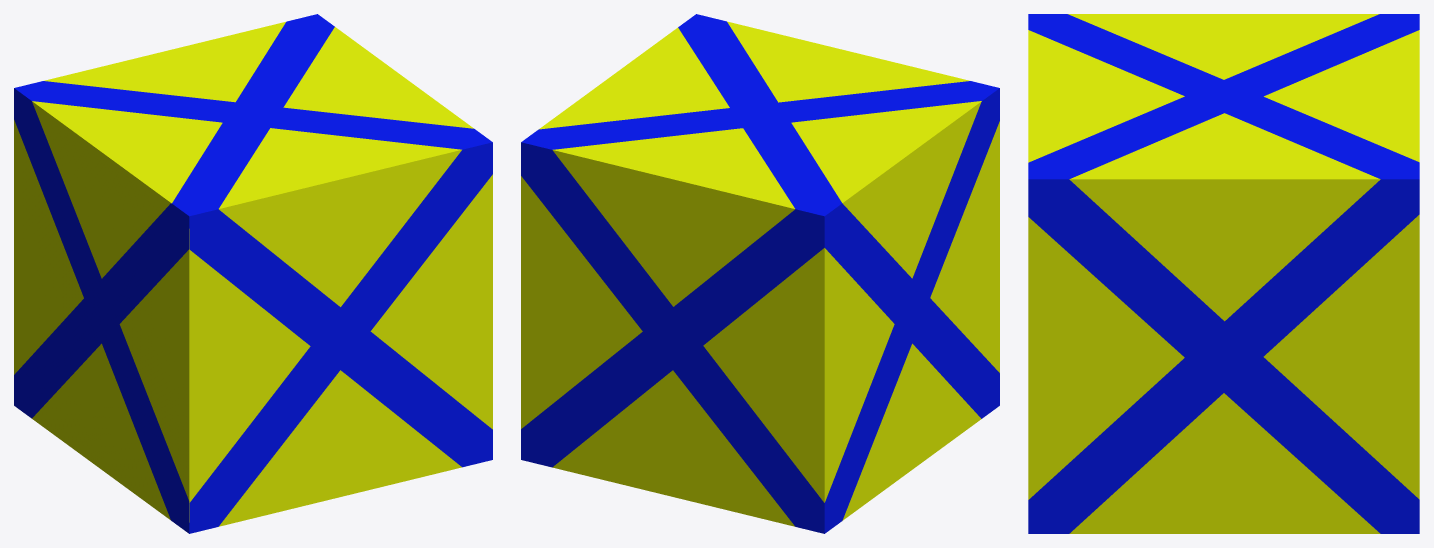
3 views of the same model, side by side, from view 1: azimuth 30°, elevation 25°; view 2: azimuth 150°, elevation 25°; view 3: azimuth 270°, elevation 25° (orthographic). The views are drawn at different scales.
Visible parts, largest first — view 1: Объект_Куб; view 2: Объект_Куб; view 3: Объект_Куб.
Boxes of the visible parts, left/top/right/bottom form: Объект_Куб: left=14, top=14, right=492, bottom=533; Объект_Куб: left=521, top=14, right=999, bottom=533; Объект_Куб: left=1028, top=14, right=1419, bottom=533.
Size of the model in its own units: 1 by 1 by 1.
